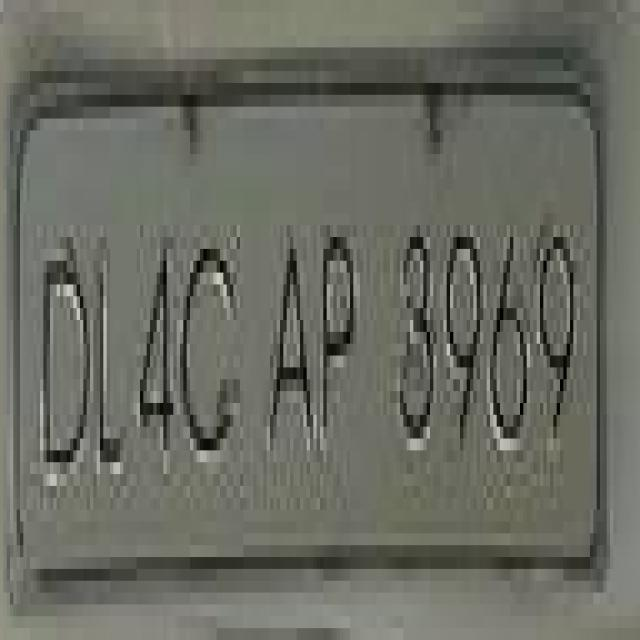license_plate: (7, 47, 593, 581)
